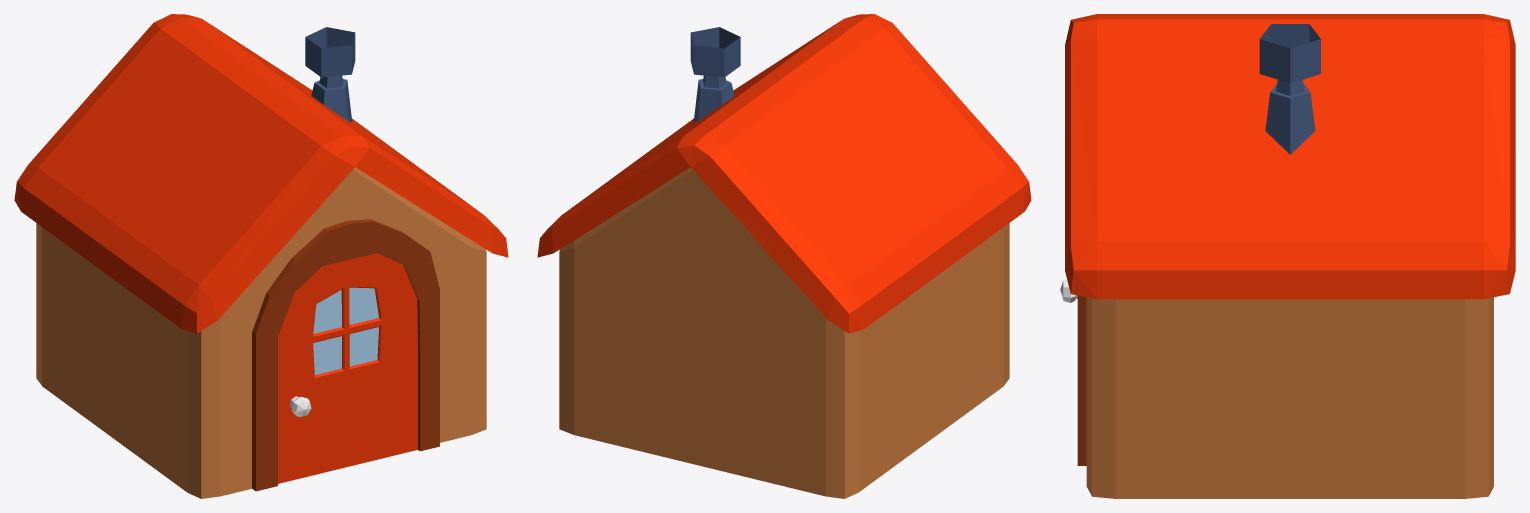
The model's file is house_orange.fbx.
The picture shows the model from 3 angles, left to right: view 1: azimuth 30°, elevation 25°; view 2: azimuth 150°, elevation 25°; view 3: azimuth 270°, elevation 25°; orthographic projection. The views are drawn at different scales.
Parts seen in each view (by area): view 1: house; view 2: house; view 3: house.
Boxes of the visible parts, x1,y1,x2,y2 form: house: [14, 14, 508, 498]; house: [537, 14, 1031, 498]; house: [1060, 14, 1515, 498].
Bounding box in the file's own units: 273 × 284 × 280.
